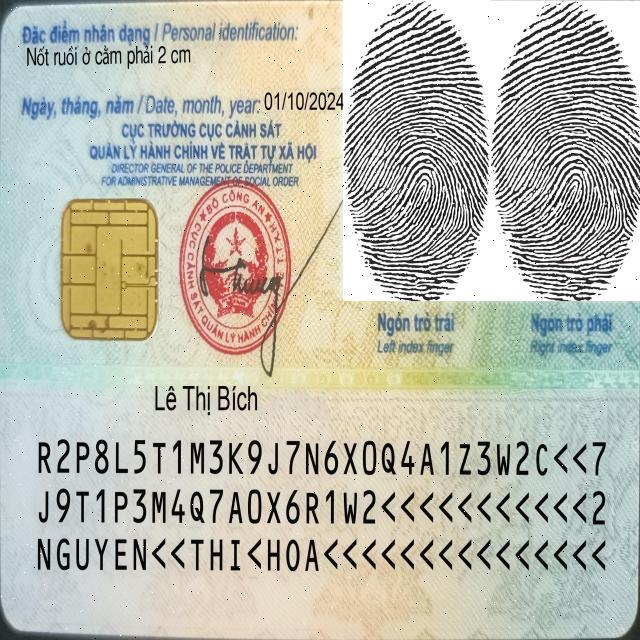features: (23, 44, 202, 72)
finger_print: (489, 1, 640, 360), (342, 1, 488, 359)
issue_date: (260, 85, 346, 115)
